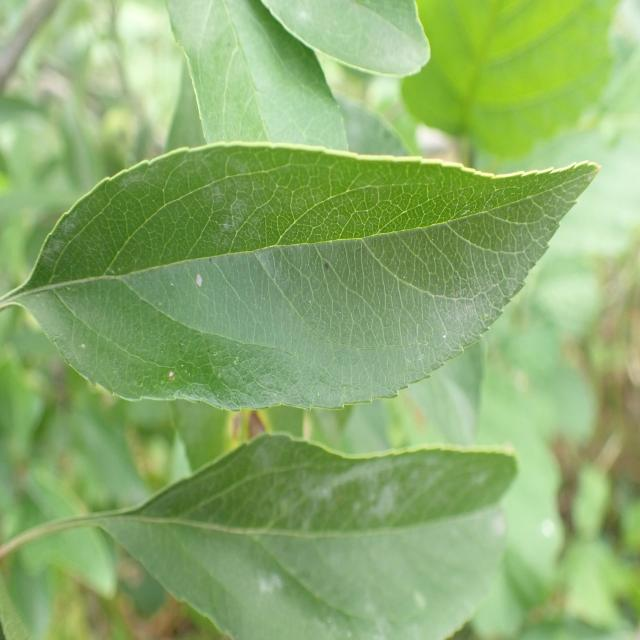Powdery_mildew: (8, 117, 614, 402), (81, 438, 526, 640)
